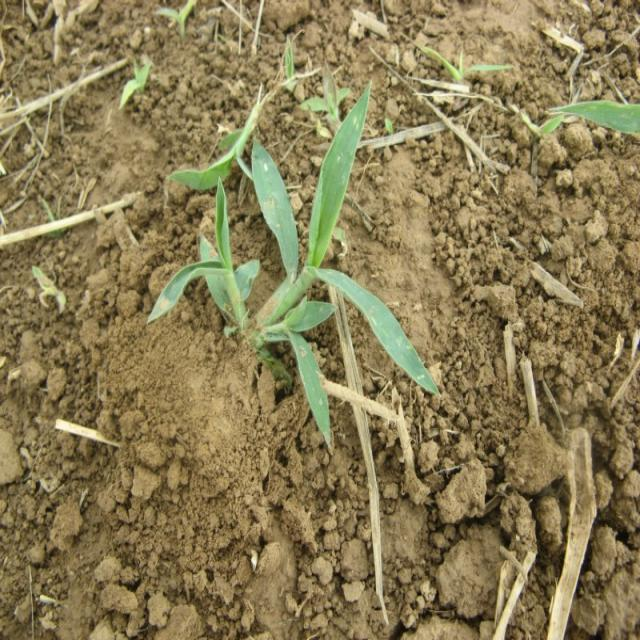bg: (155, 84, 437, 452)
